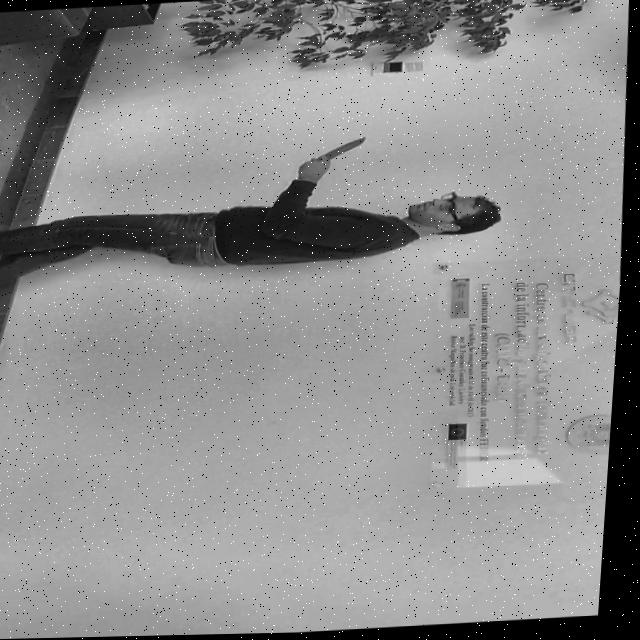knife: (316, 131, 379, 164)
